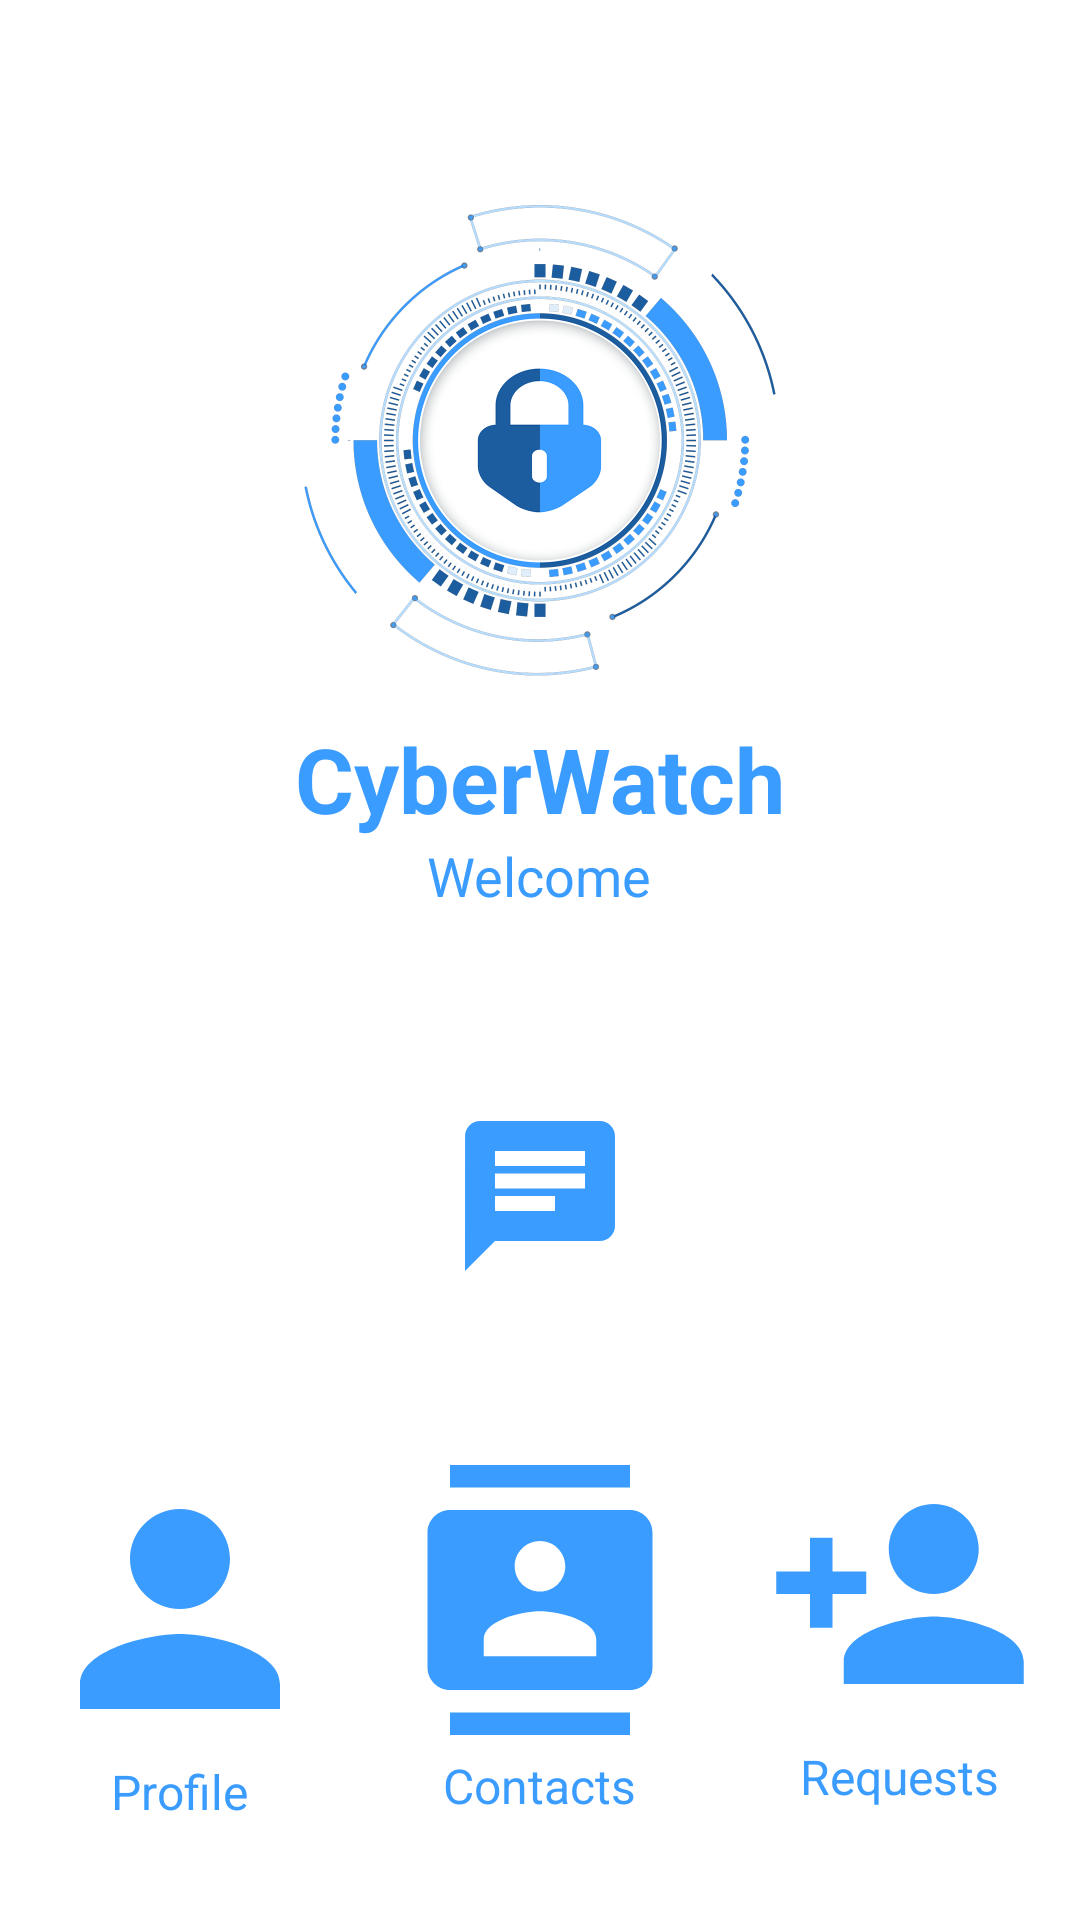

Screen size 1080*1920. Icon name, then its box in pixels as [left=x1, top=y1, right=x2, bottom=y2]:
chat: [left=465, top=1121, right=615, bottom=1271]
person: [left=80, top=1509, right=280, bottom=1709]
person add: [left=776, top=1504, right=1024, bottom=1684]
